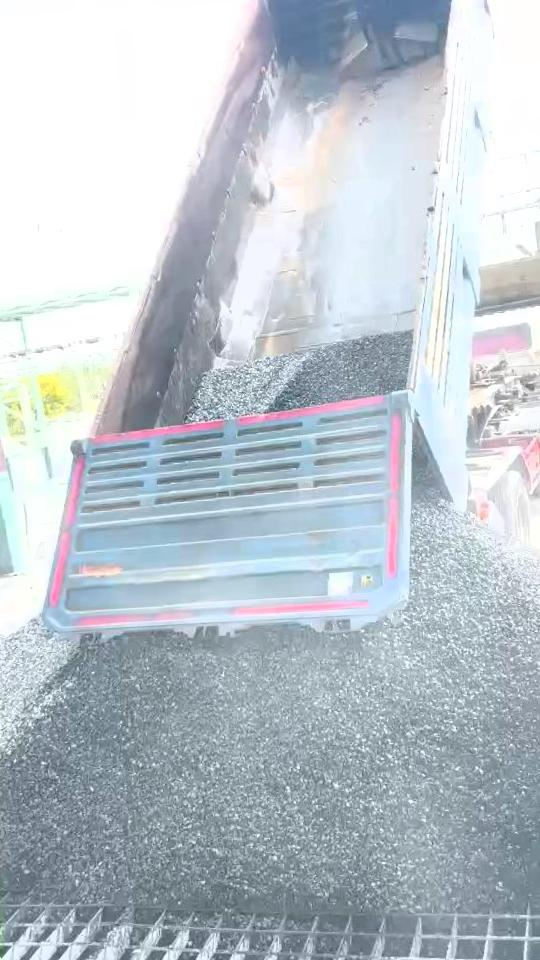gravel: (0, 481, 540, 909), (180, 332, 412, 420), (0, 618, 75, 754)
